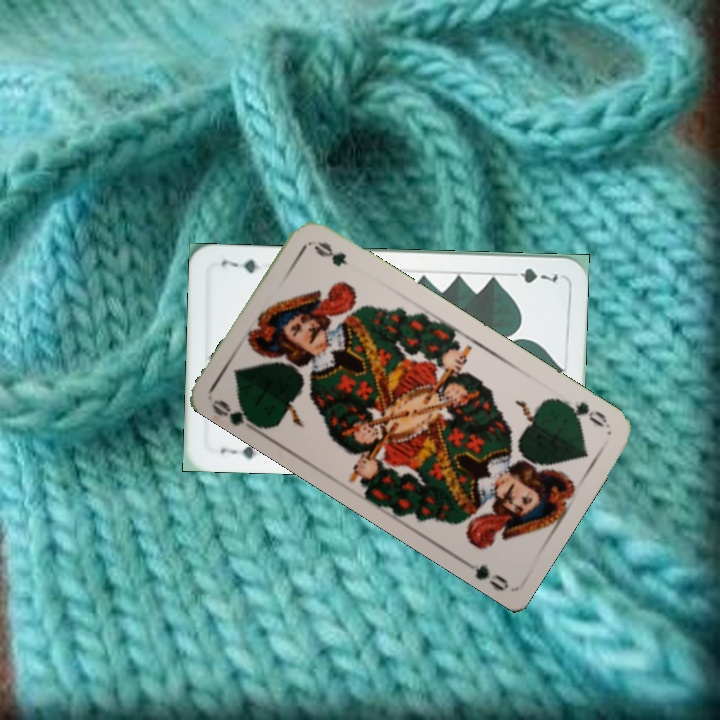G7: (503, 264, 560, 286), (217, 441, 260, 462)
GO: (208, 395, 265, 437), (555, 396, 610, 430)
